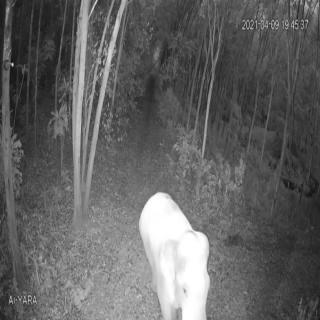Elephant: (138, 178, 216, 320)
